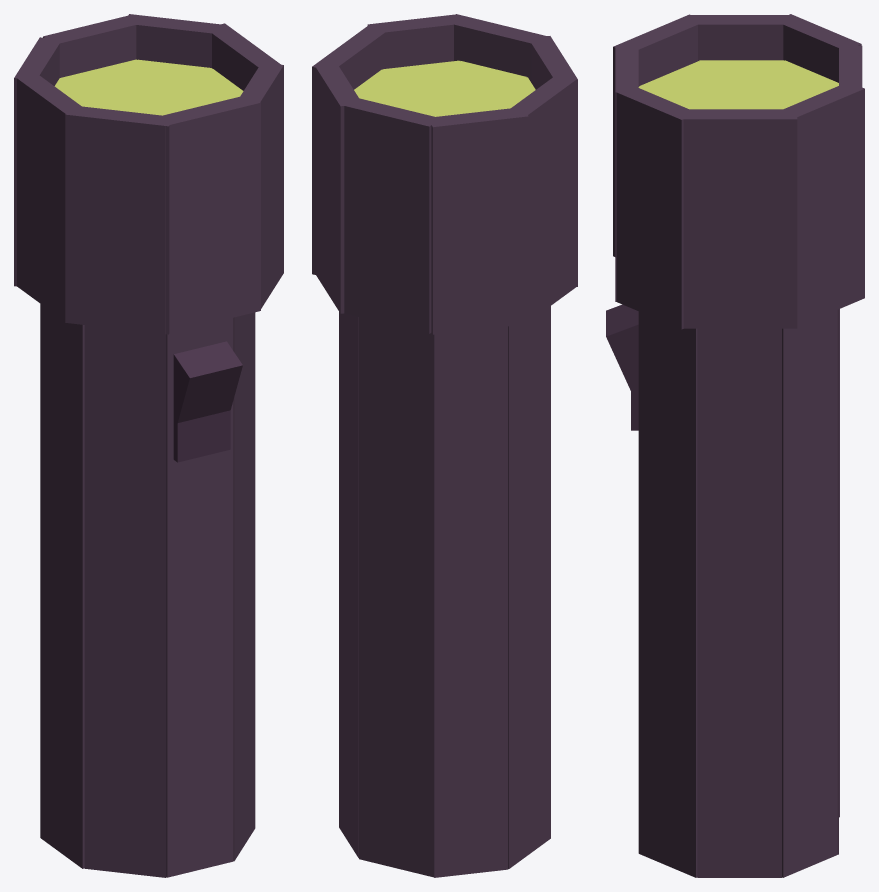
The model's file is PhysicalFlashlight.fbx.
The picture shows the model from 3 angles, left to right: view 1: azimuth 30°, elevation 25°; view 2: azimuth 150°, elevation 25°; view 3: azimuth 270°, elevation 25°; orthographic projection.
Visible parts, largest first — view 1: cube_0, cube_24, cube_4, cube_9, cube_13, cube_2, cube_15, cube_11, cube_25, cube_12, cube_16, cube_8 (+8 smaller); view 2: cube_7, cube_1, cube_4, cube_10, cube_12, cube_15, cube_3, cube_8, cube_13, cube_14, cube_11, cube_16 (+6 smaller); view 3: cube_5, cube_2, cube_3, cube_14, cube_8, cube_11, cube_16, cube_15, cube_9, cube_10, cube_25, cube_18 (+5 smaller).
Boxes of the visible parts, bbox=[...] form: cube_0: bbox=[84, 325, 166, 877]; cube_24: bbox=[166, 318, 233, 877]; cube_4: bbox=[40, 304, 84, 868]; cube_9: bbox=[65, 106, 169, 334]; cube_13: bbox=[154, 94, 260, 333]; cube_2: bbox=[233, 312, 255, 861]; cube_15: bbox=[17, 73, 85, 321]; cube_11: bbox=[240, 65, 283, 308]; cube_25: bbox=[173, 341, 242, 436]; cube_12: bbox=[43, 14, 142, 77]; cube_16: bbox=[54, 77, 228, 115]; cube_8: bbox=[128, 14, 219, 67]; cube_7: bbox=[359, 317, 433, 877]; cube_1: bbox=[434, 326, 507, 877]; cube_4: bbox=[508, 306, 550, 869]; cube_10: bbox=[431, 108, 528, 334]; cube_12: bbox=[341, 96, 440, 333]; cube_15: bbox=[508, 74, 576, 321]; cube_3: bbox=[339, 312, 358, 857]; cube_8: bbox=[316, 66, 358, 313]; cube_13: bbox=[445, 14, 550, 82]; cube_14: bbox=[312, 25, 388, 274]; cube_11: bbox=[367, 14, 455, 68]; cube_16: bbox=[389, 71, 486, 116]; cube_5: bbox=[697, 328, 781, 877]; cube_2: bbox=[638, 311, 697, 877]; cube_3: bbox=[782, 310, 837, 877]; cube_14: bbox=[681, 109, 797, 328]; cube_8: bbox=[784, 86, 864, 326]; cube_11: bbox=[616, 88, 688, 329]; cube_16: bbox=[680, 60, 838, 109]; cube_15: bbox=[689, 15, 789, 60]; cube_9: bbox=[613, 14, 697, 256]; cube_10: bbox=[783, 14, 861, 82]; cube_25: bbox=[606, 304, 638, 407]; cube_18: bbox=[658, 68, 795, 109].
Size of the model in its own units: 20.33 by 68.75 by 20.99.
